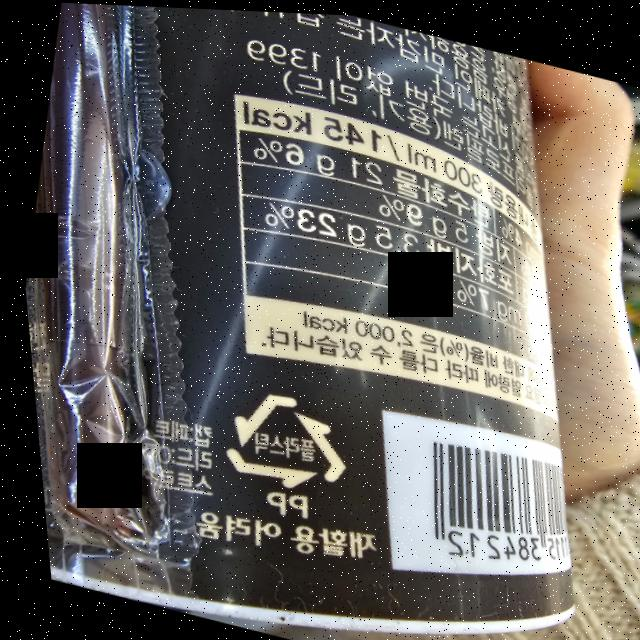Plastic: (199, 375, 357, 504)
